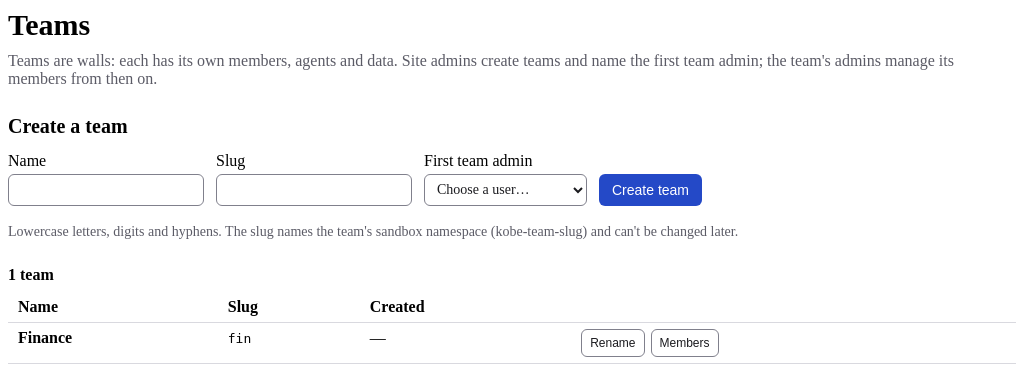
Test: Teams: keyboard flow of rename › moves focus into the form and back, and Cancel discards the edit
Click the button named "Rename Finance": point(613, 342) [581,328,645,356]
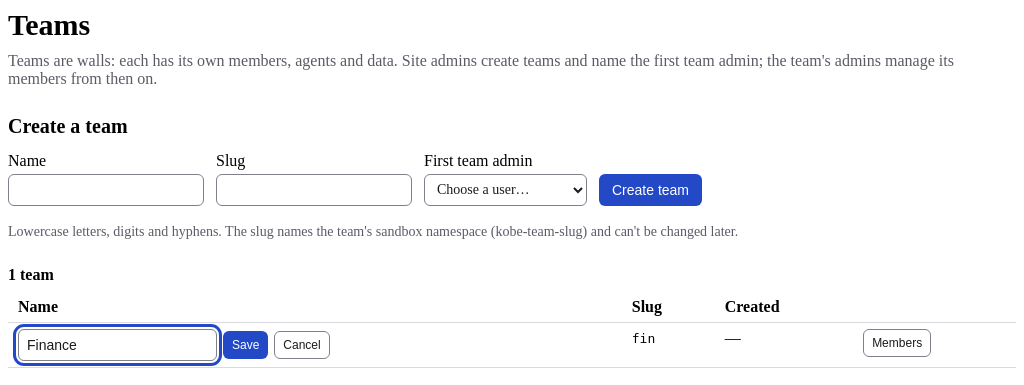
In the field named "New name for Finance": point(118, 344) [18,328,217,360], type " (old)"
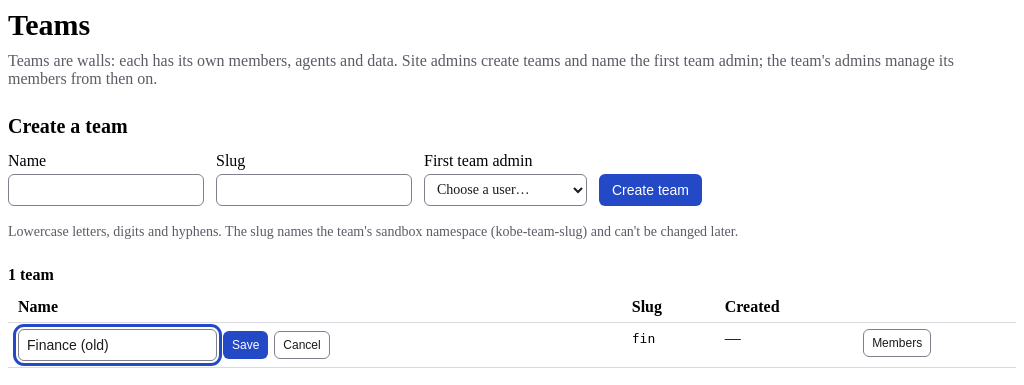
Click the button "Cancel": point(302, 344) [274,330,330,358]
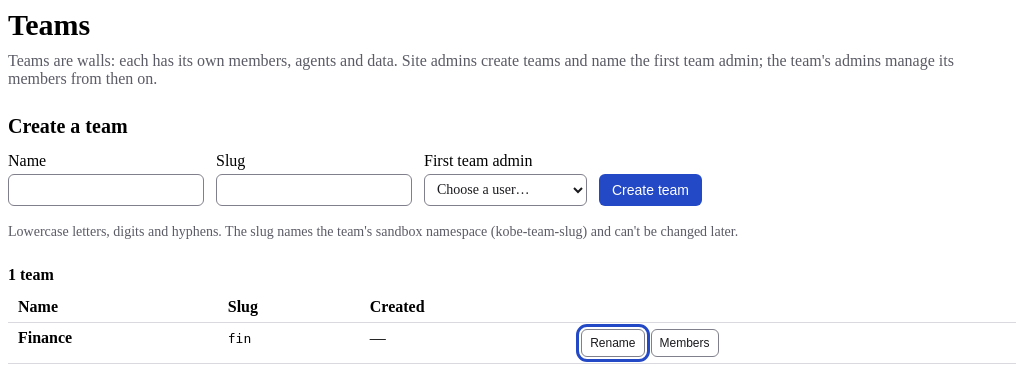
Click the button named "Rename Finance": point(613, 342) [581,328,645,356]
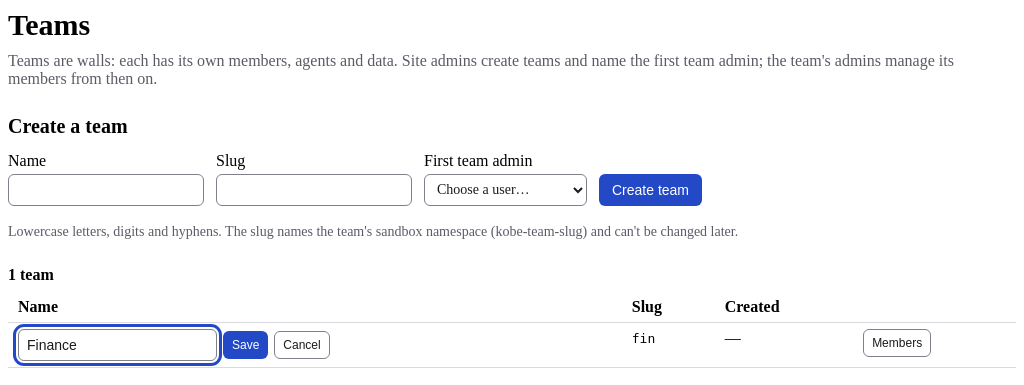
Expected: the field named "New name for Finance" holds "Finance", [18,328,217,360]
